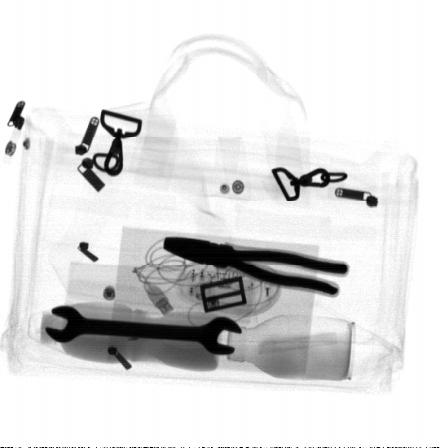Pliers: (163, 234, 350, 298)
Wrench: (44, 305, 243, 357)
